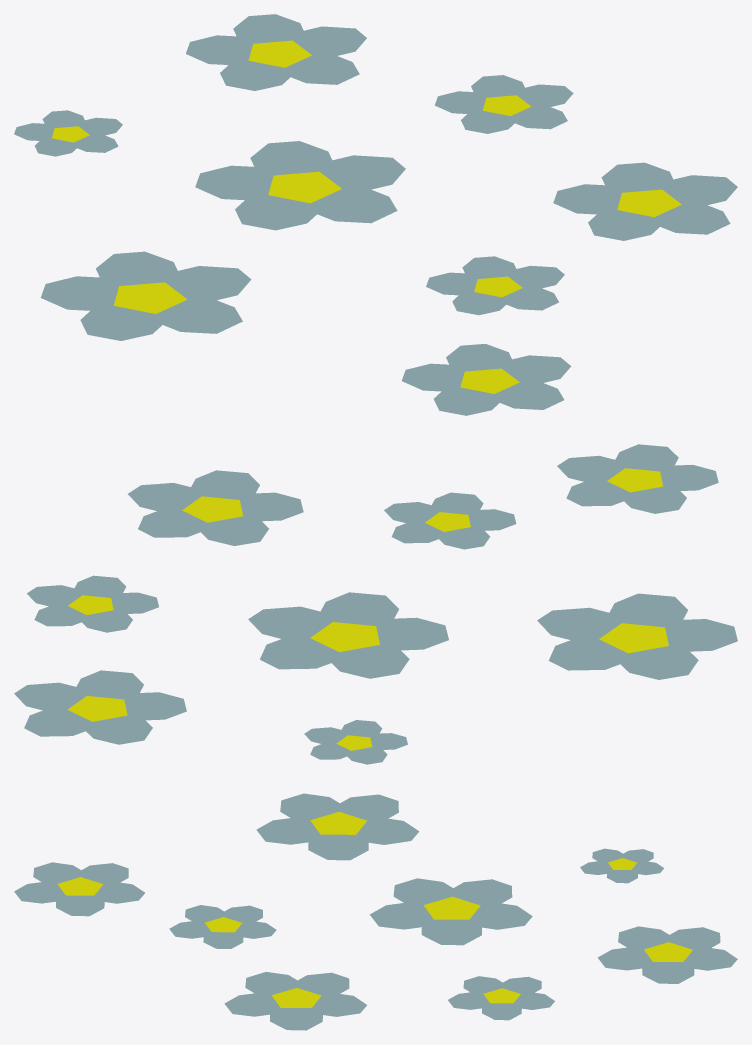
File: BlueGroundFlowers.fbx
3 views of the same model, one above another, from view 1: azimuth 30°, elevation 25°; view 2: azimuth 150°, elevation 25°; view 3: azimuth 270°, elevation 25° (orthographic). The views are drawn at different scales.
Parts seen in each view (by area): view 1: BlueGroundFlowers; view 2: BlueGroundFlowers; view 3: BlueGroundFlowers.
Boxes of the visible parts, x1=… form: BlueGroundFlowers: x1=14, y1=14, x2=737, y2=415; BlueGroundFlowers: x1=14, y1=444, x2=737, y2=764; BlueGroundFlowers: x1=14, y1=793, x2=737, y2=1030.
Size of the model in its own units: 3.32 by 0 by 4.29.
